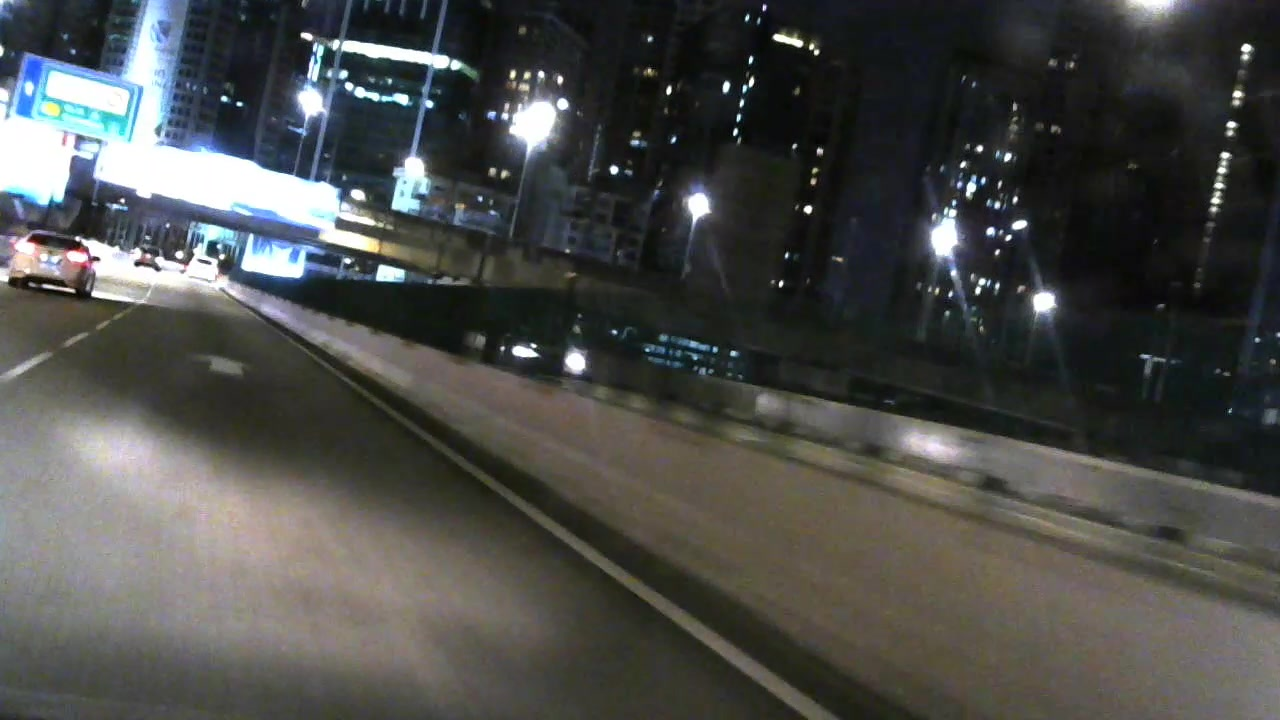Car: (9, 225, 105, 309), (181, 249, 223, 291), (131, 243, 165, 274)
